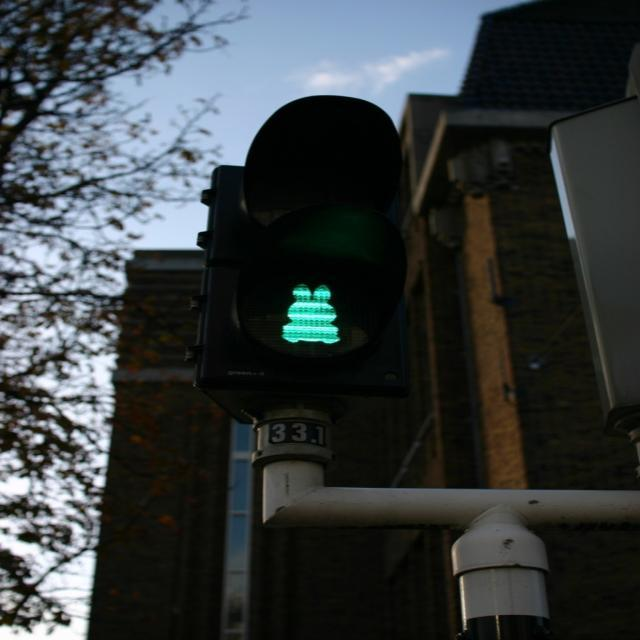traffic light: (187, 95, 416, 393)
